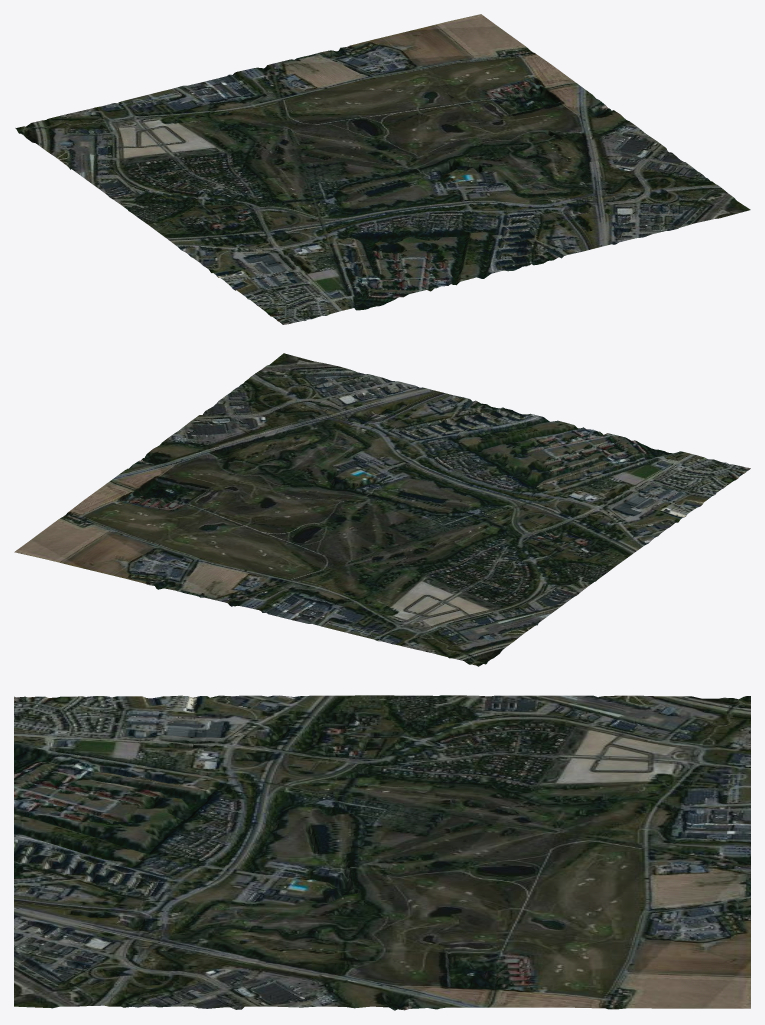
Rendered from map_10_251_427.dae.
3 renders of one model, top to bottom at view 1: azimuth 30°, elevation 25°; view 2: azimuth 150°, elevation 25°; view 3: azimuth 270°, elevation 25°, orthographic. The views are drawn at different scales.
Parts seen in each view (by area): view 1: Ter0; view 2: Ter0; view 3: Ter0.
Part boxes in pixels (x1=…): Ter0: x1=15, y1=14, x2=750, y2=324; Ter0: x1=14, y1=353, x2=750, y2=666; Ter0: x1=14, y1=695, x2=750, y2=1010.
Bounding box in the file's own units: 2044 × 2044 × 32.33.
Materials: 3 (3 with a texture image).
